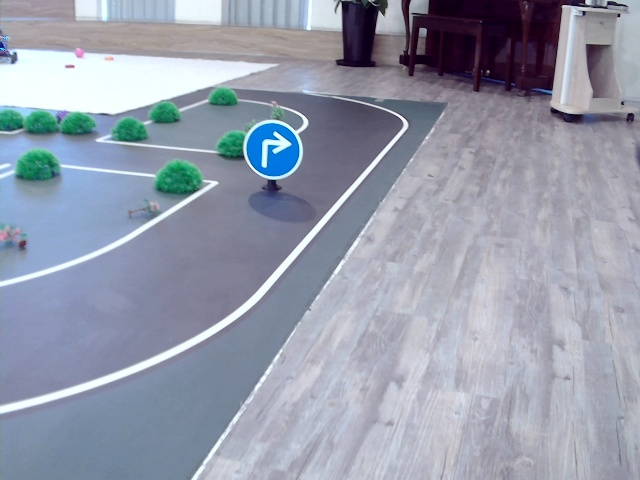turn_right: (258, 130, 290, 167)
